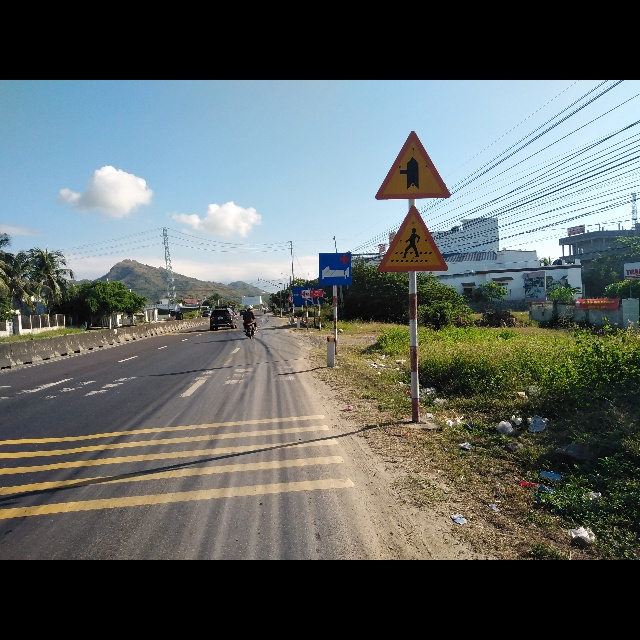Bệnh viện: (319, 252, 352, 288)
Giao nhau với đường không ưu tiên: (375, 130, 450, 199)
Đường người đi bộ sang đường: (377, 206, 450, 271)
